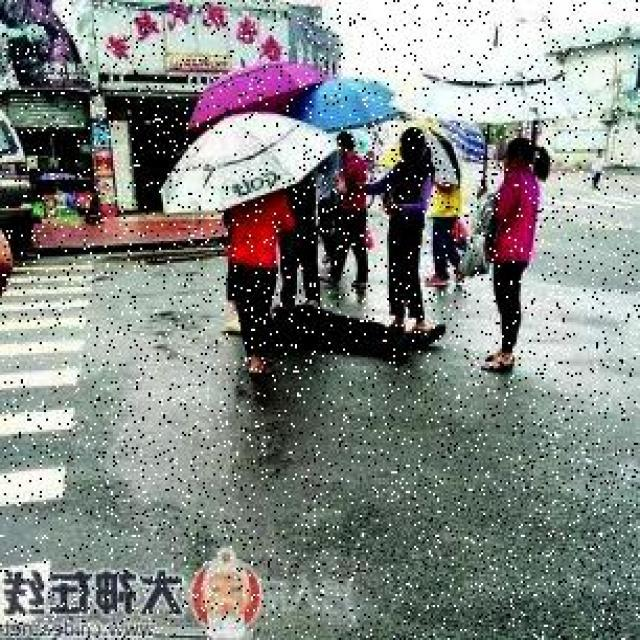fall: (252, 302, 448, 358)
